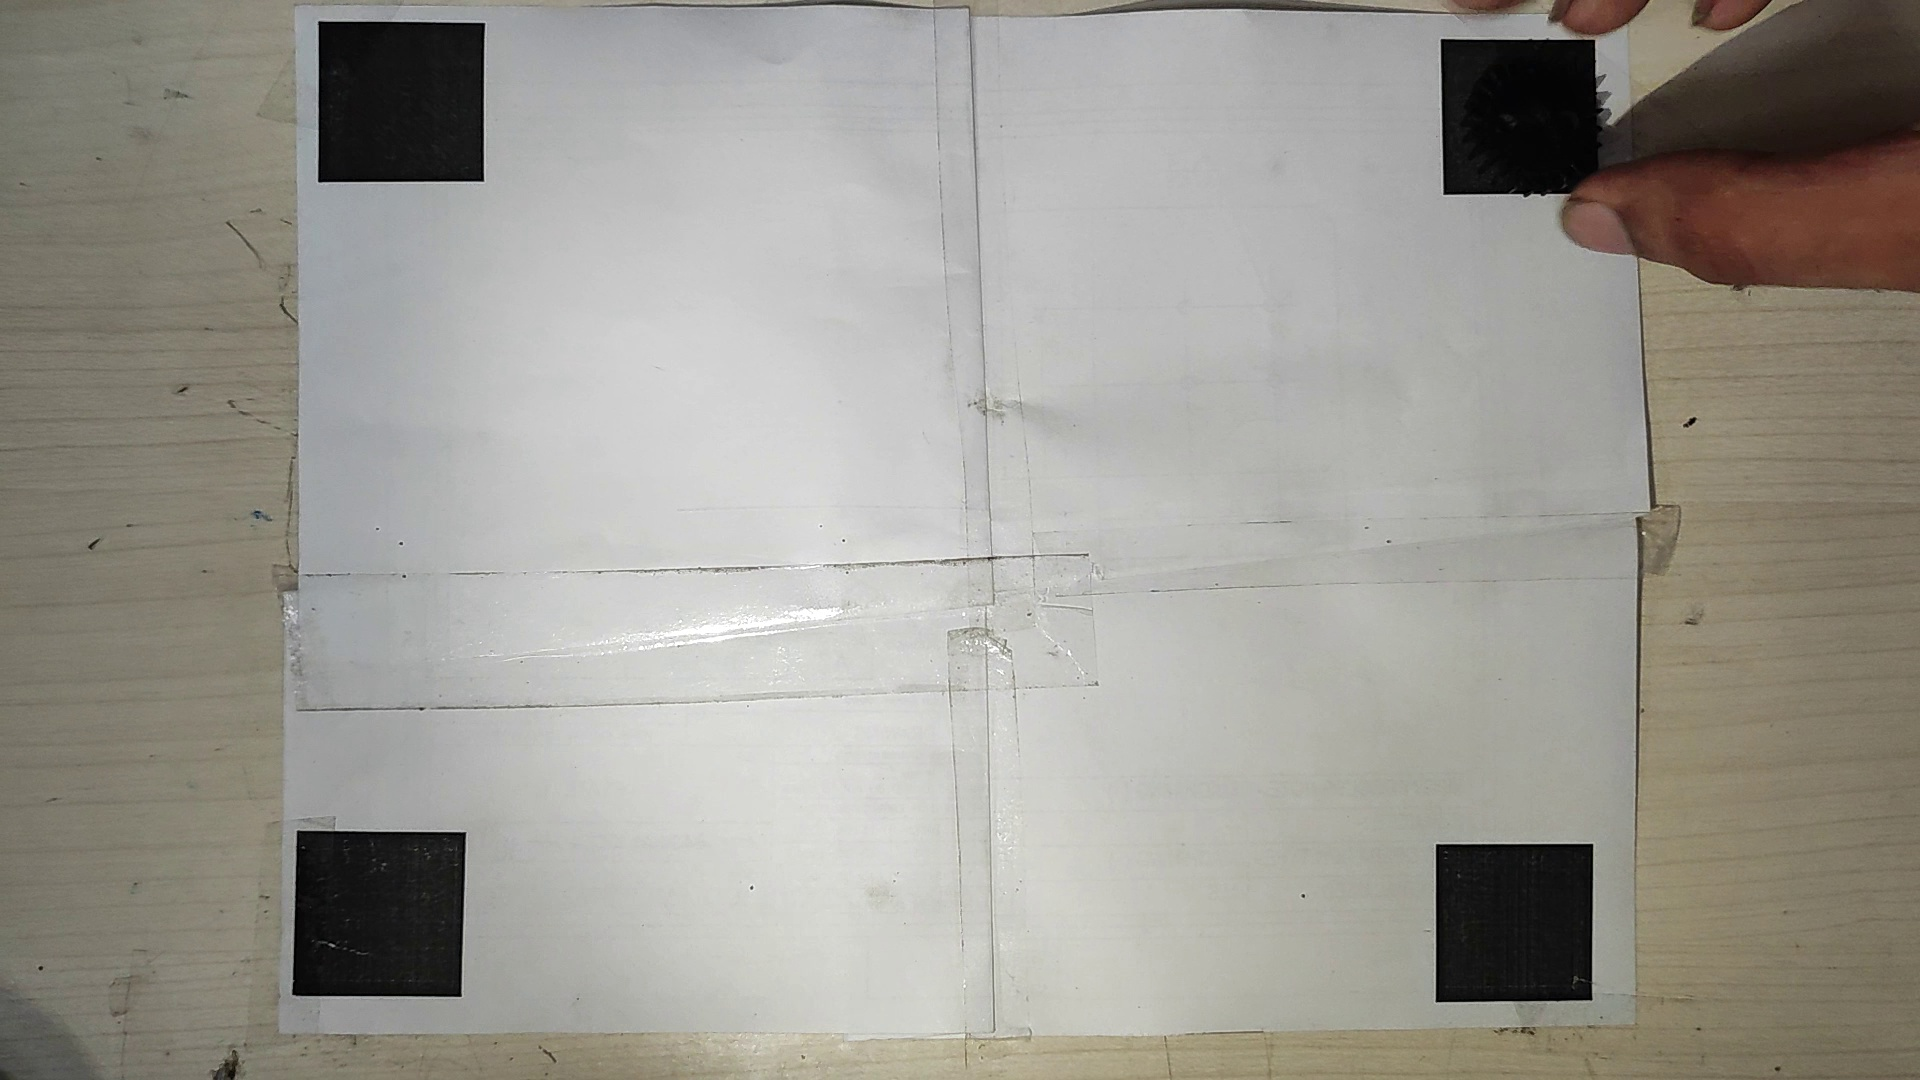Gear: (1464, 50, 1609, 198)
